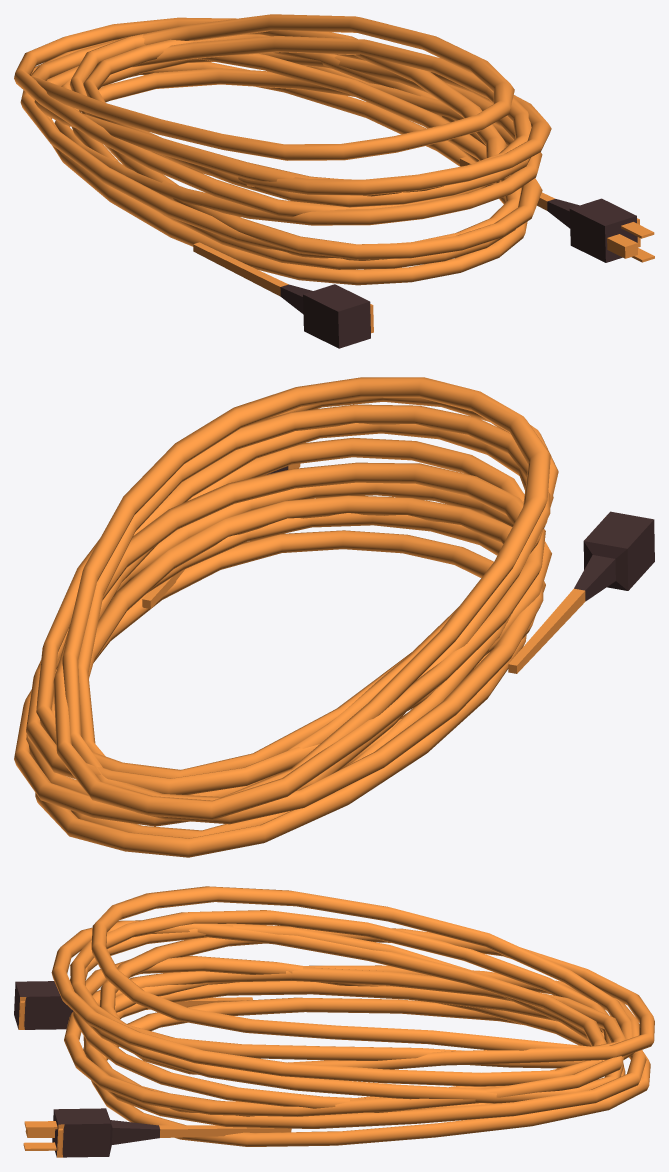
The model's file is power_cord.glb.
3 renders of one model, top to bottom at view 1: azimuth 30°, elevation 25°; view 2: azimuth 150°, elevation 25°; view 3: azimuth 270°, elevation 25°, orthographic. The views are drawn at different scales.
Parts seen in each view (by area): view 1: PowerCord; view 2: PowerCord; view 3: PowerCord.
Boxes of the visible parts, <box> form: PowerCord: <box>14,14,654,348</box>; PowerCord: <box>14,377,654,857</box>; PowerCord: <box>14,886,654,1157</box>.
Bounding box in the file's own units: 0.3492 × 0.1571 × 0.5842.
